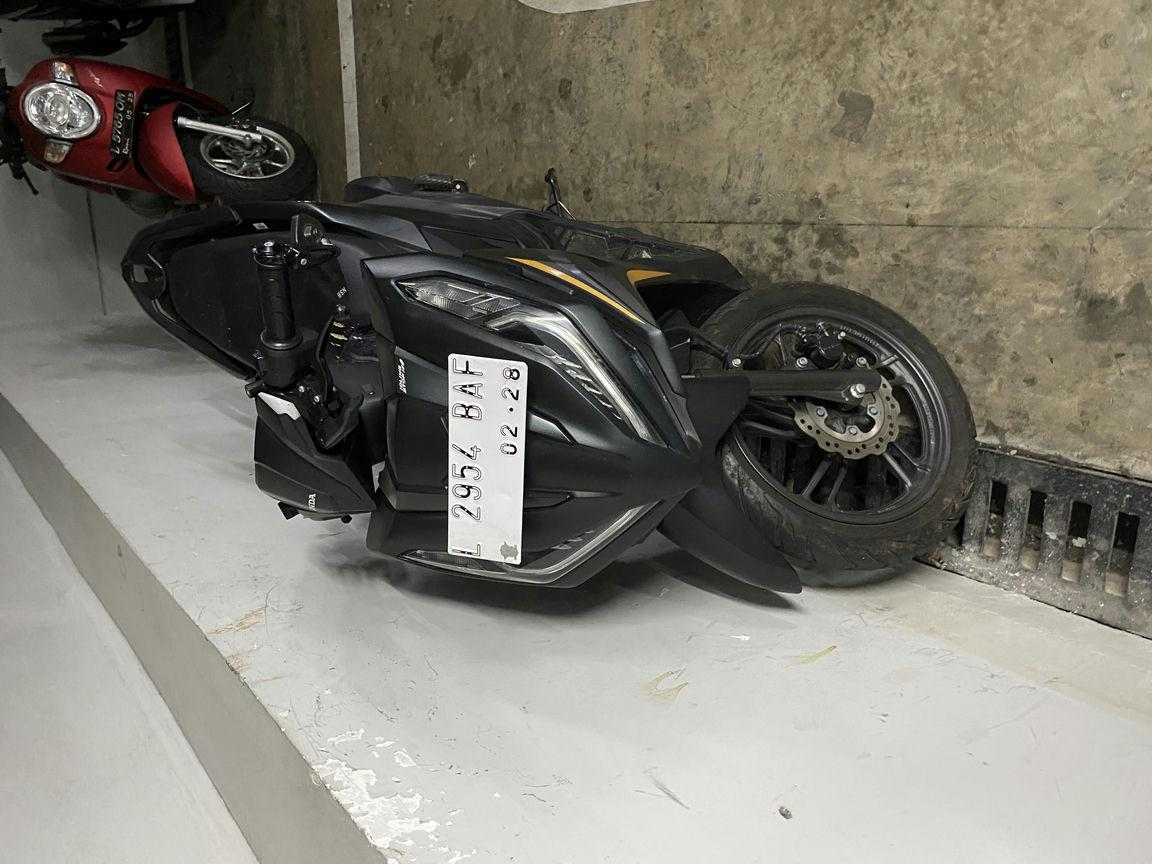plat: (399, 336, 681, 397)
